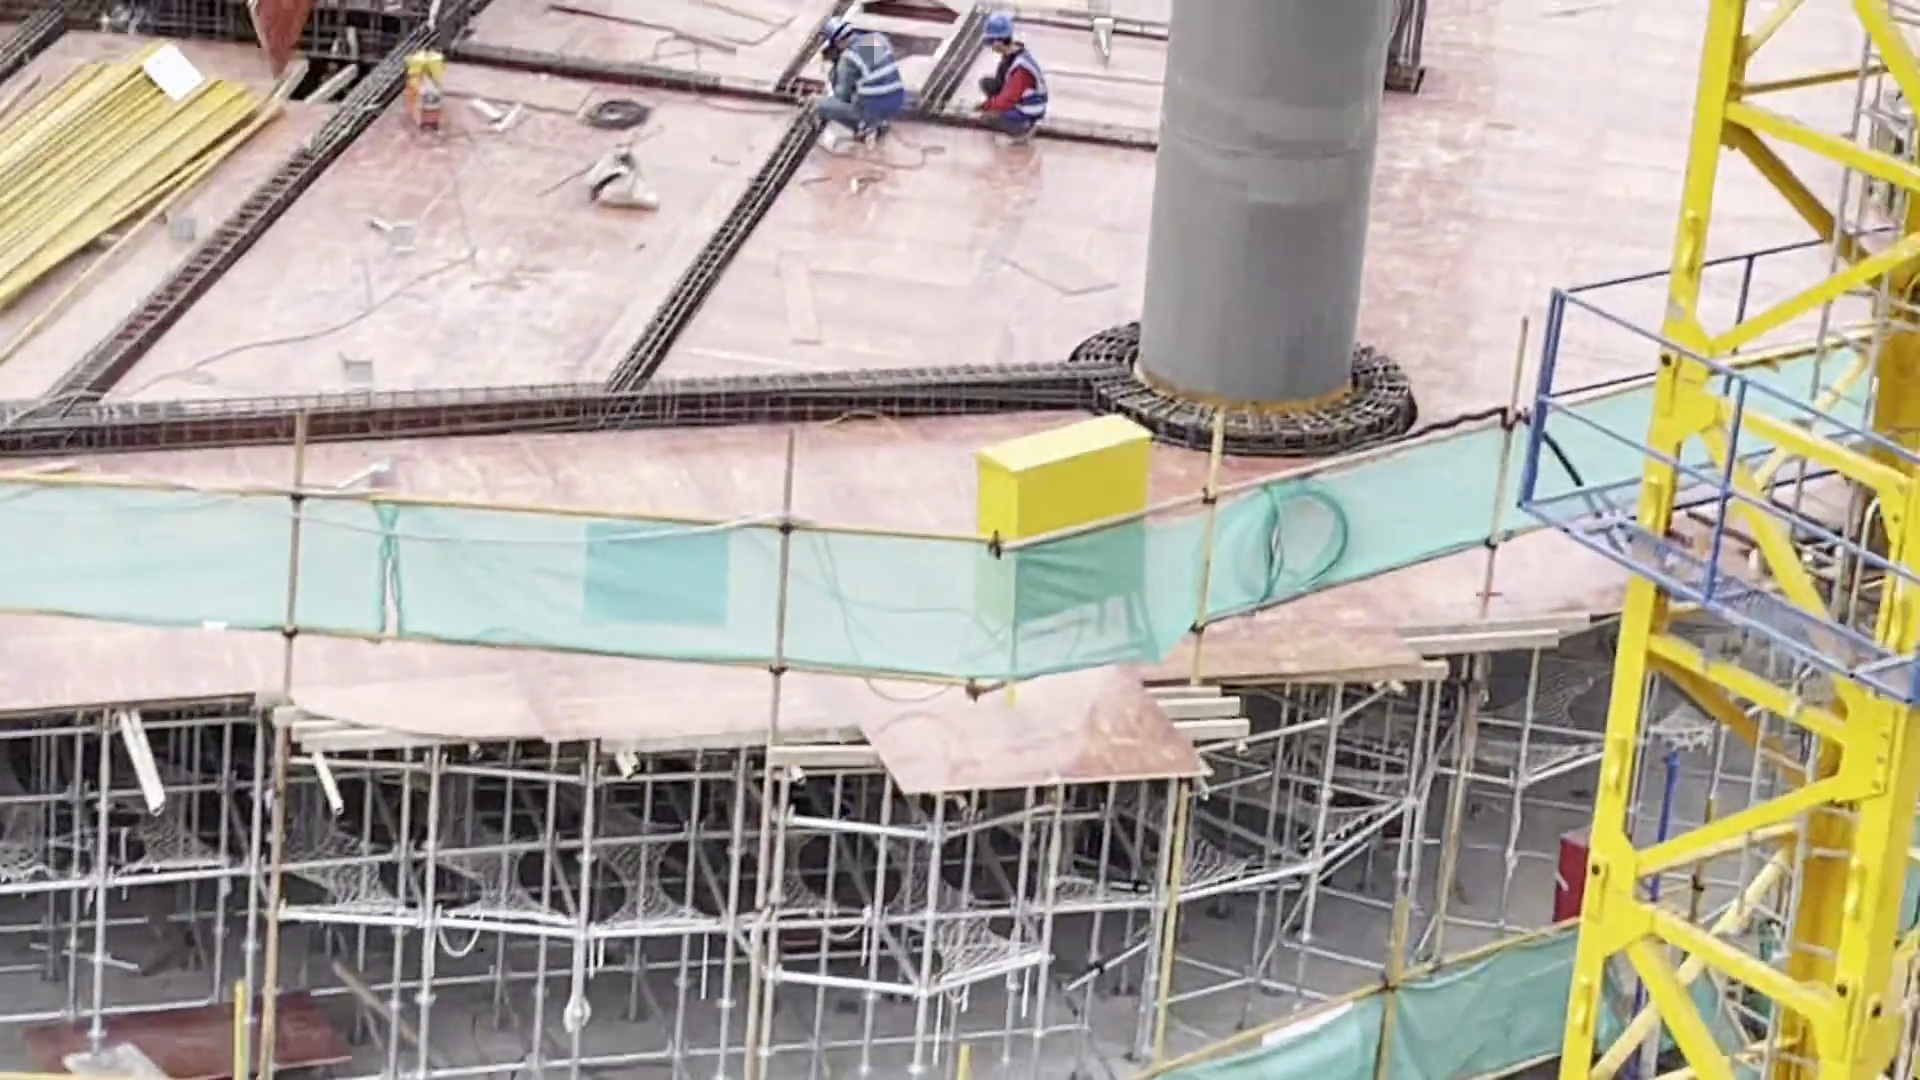ebox: (973, 406, 1158, 708)
helmet: (983, 15, 1019, 45), (823, 15, 852, 47)
person: (813, 8, 908, 150), (984, 12, 1049, 150)
vest: (838, 33, 908, 118), (998, 47, 1050, 127)
